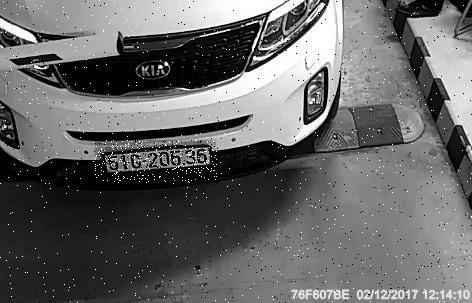License-plate: (97, 141, 219, 184)
